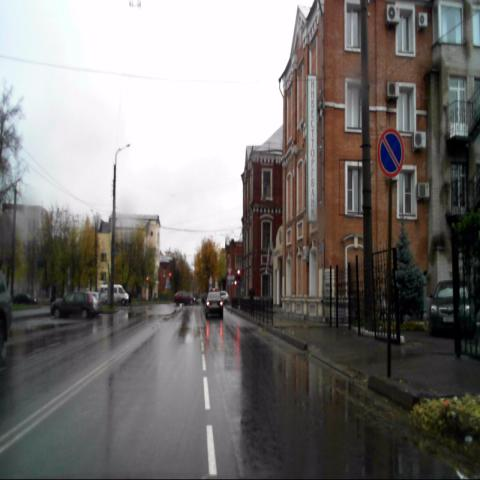3_28: (377, 128, 404, 178)
